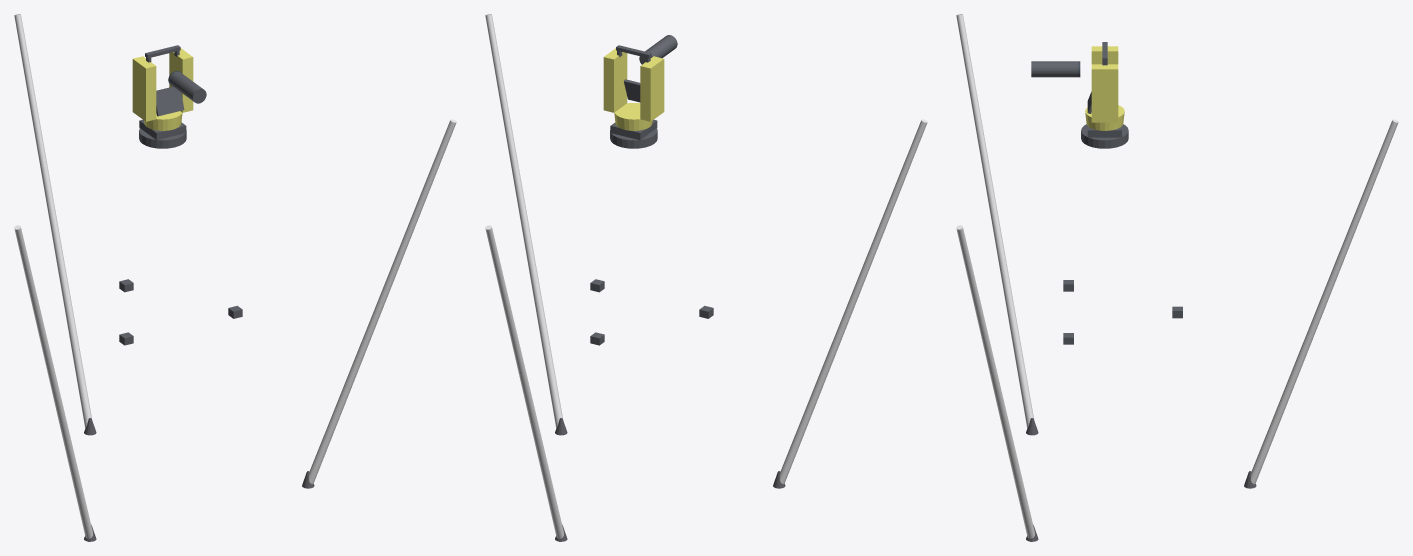
Rendered from TST-TRI-C5-2.glb.
3 views of the same model, side by side, from view 1: azimuth 30°, elevation 25°; view 2: azimuth 150°, elevation 25°; view 3: azimuth 270°, elevation 25° (orthographic).
Parts seen in each view (by area): view 1: TST-TRI-C5-2; view 2: TST-TRI-C5-2; view 3: TST-TRI-C5-2.
Boxes of the visible parts, x1,y1,x2,y2 form: TST-TRI-C5-2: [14, 14, 456, 541]; TST-TRI-C5-2: [485, 14, 927, 541]; TST-TRI-C5-2: [956, 14, 1398, 541].
Size of the model in its own units: 1.93 by 1.83 by 1.67.
